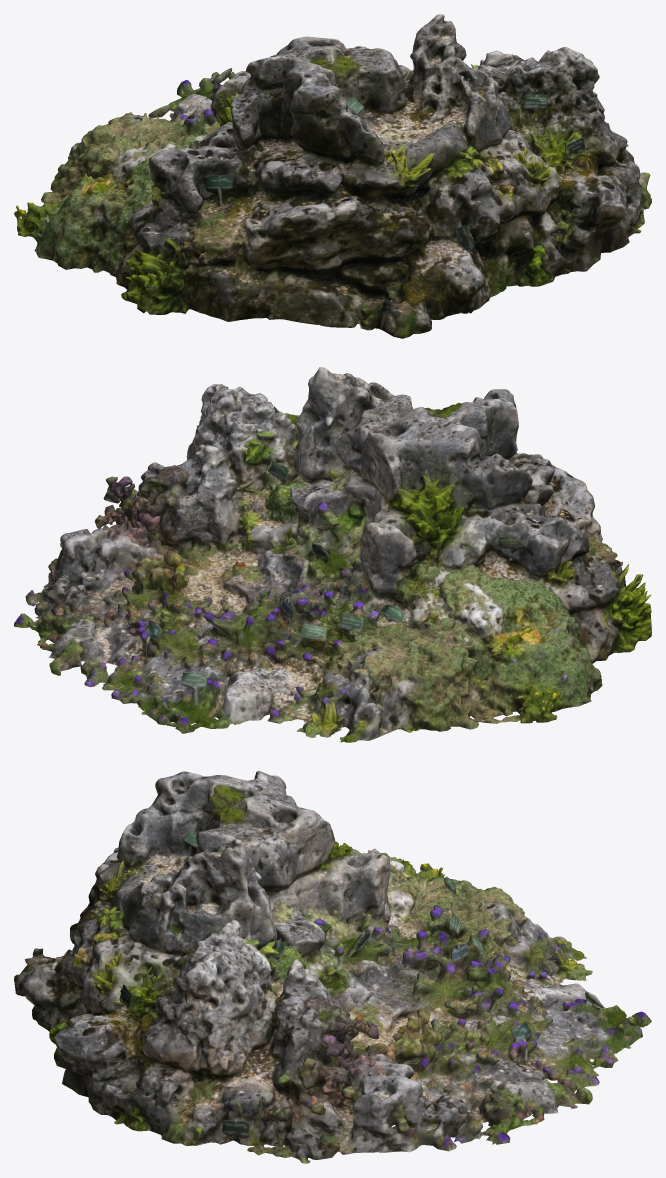
The picture shows the model from 3 angles, top to bottom: view 1: azimuth 30°, elevation 25°; view 2: azimuth 150°, elevation 25°; view 3: azimuth 270°, elevation 25°; orthographic projection. The views are drawn at different scales.
Parts seen in each view (by area): view 1: Model_material0_0; view 2: Model_material0_0; view 3: Model_material0_0.
Boxes of the visible parts, x1,y1,x2,y2 form: Model_material0_0: (14,14,651,338); Model_material0_0: (14,367,651,742); Model_material0_0: (14,771,651,1163).
Bounding box in the file's own units: 3.57 × 1.28 × 3.45.
Materials: 1 (1 with a texture image).
